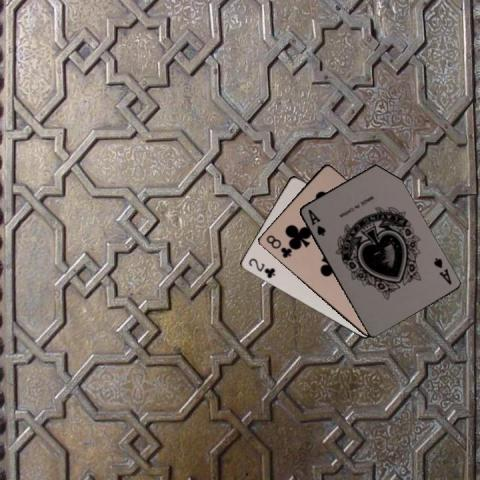2c: (245, 255, 276, 280)
8c: (262, 232, 292, 259)
As: (304, 206, 327, 237), (430, 255, 453, 286)
